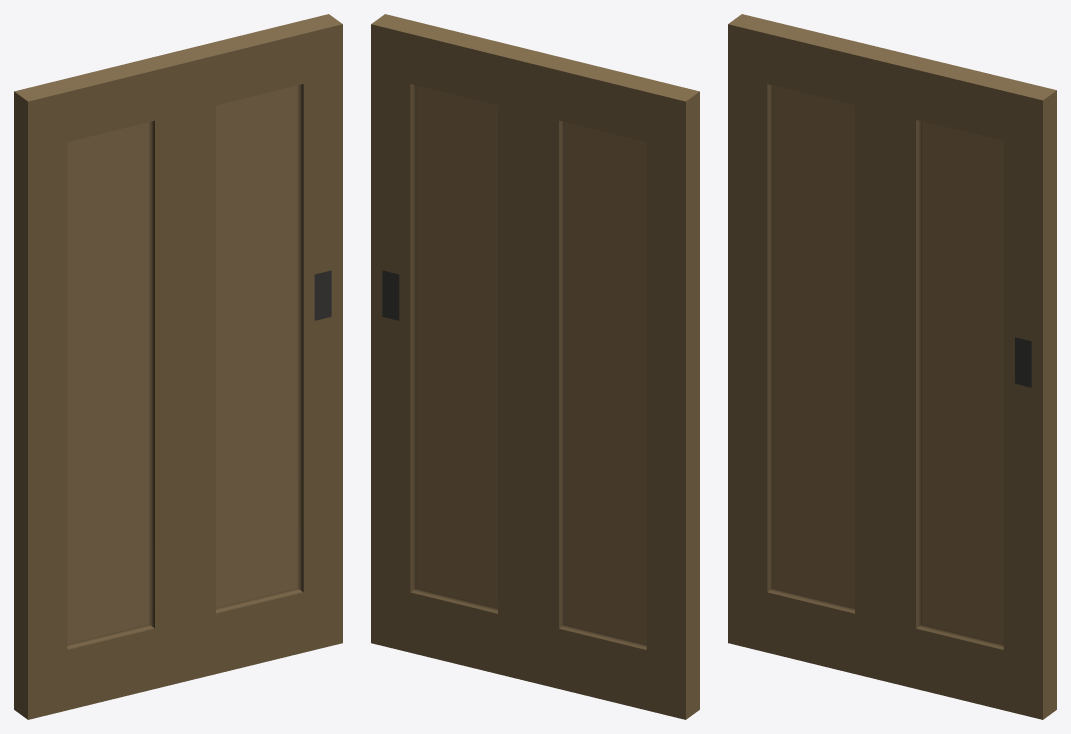
The model's file is AI_Env_Door_02.fbx.
3 renders of one model, left to right at view 1: azimuth 30°, elevation 25°; view 2: azimuth 150°, elevation 25°; view 3: azimuth 330°, elevation 25°, orthographic.
Parts seen in each view (by area): view 1: AI_Env_Door_02; view 2: AI_Env_Door_02; view 3: AI_Env_Door_02.
Part boxes in pixels (x1=…): AI_Env_Door_02: x1=14, y1=14, x2=342, y2=719; AI_Env_Door_02: x1=371, y1=14, x2=699, y2=719; AI_Env_Door_02: x1=728, y1=14, x2=1056, y2=719.
Size of the model in its own units: 2 by 3.75 by 0.1534.
